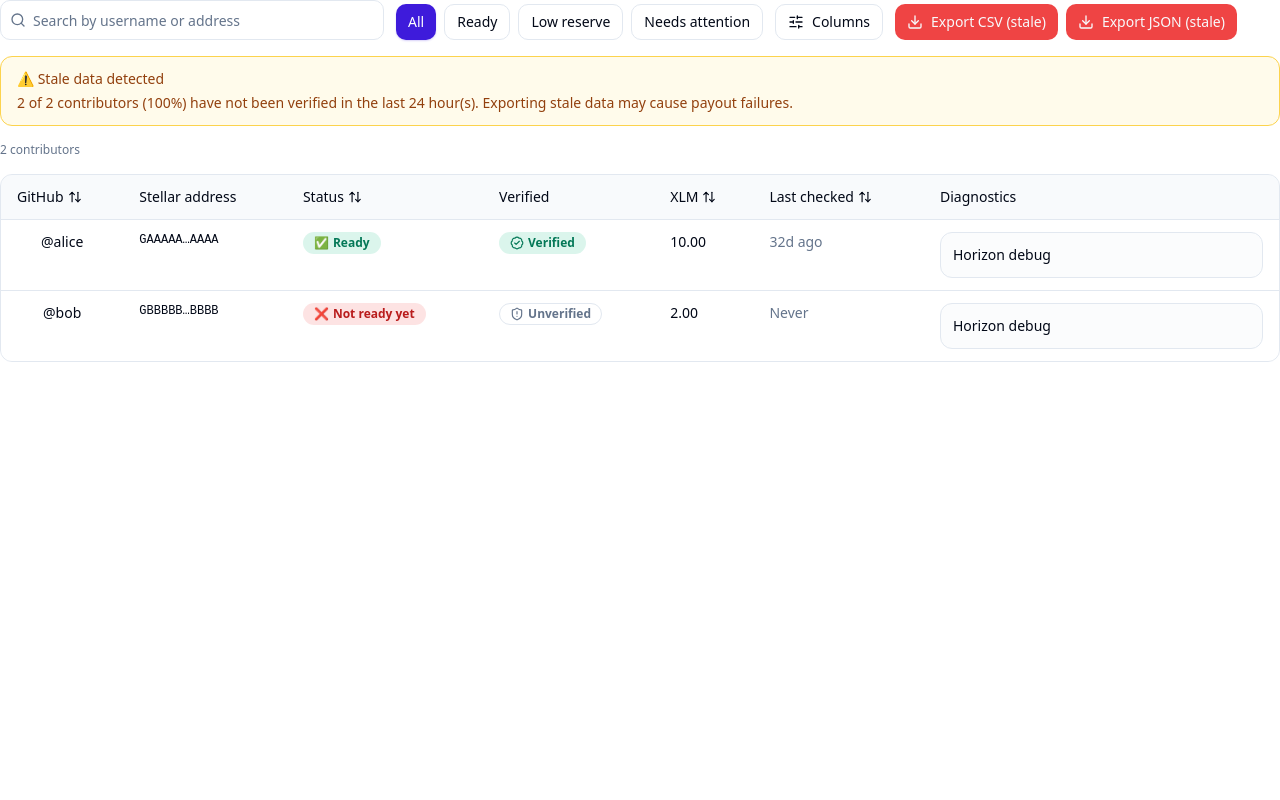
Test case: ContributorTable › export confirmation dialog › carries the stale-data warning into the dialog
The width and height of the screenshot is (1280, 800).
Click the button "Export CSV (stale)": [976, 22] box [895, 4, 1058, 40]
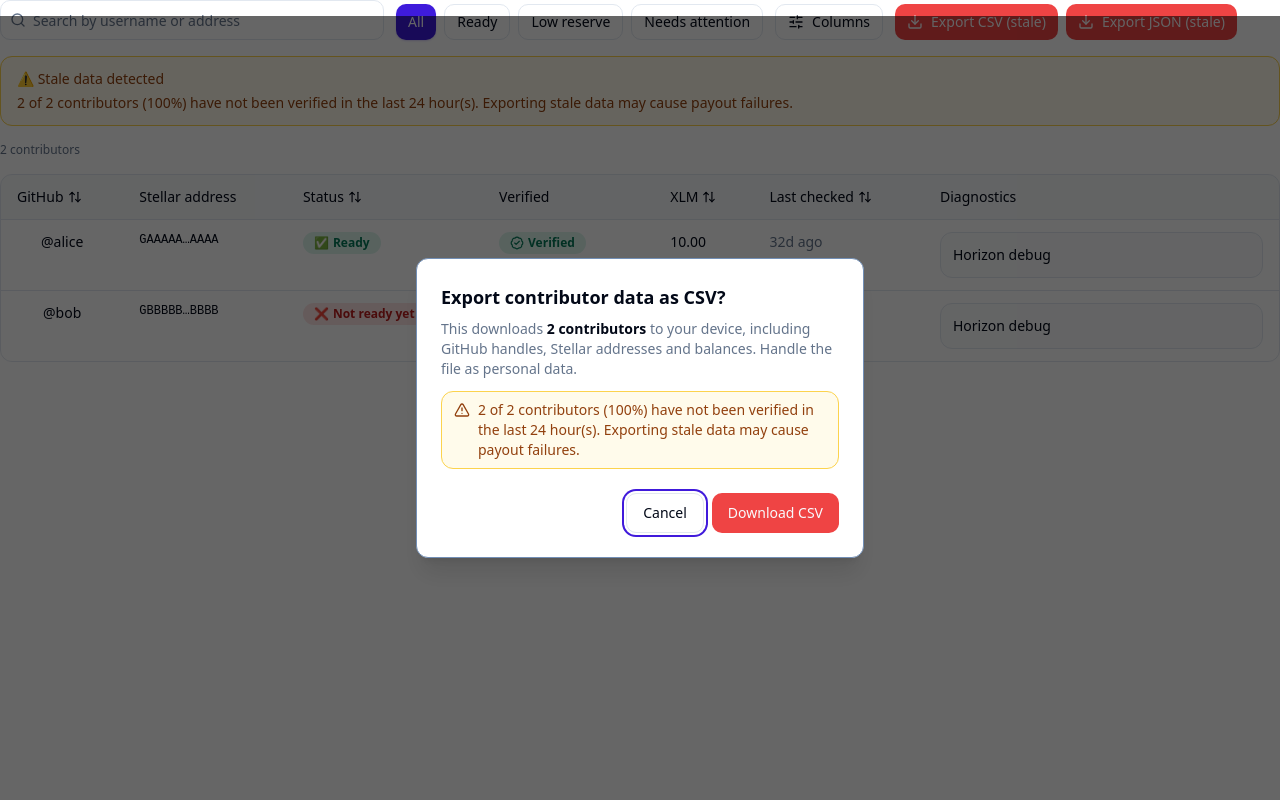
Now the dialog shows "have not been verified", box [478, 400, 814, 459]
Now the dialog shows "may cause payout failures", box [478, 400, 814, 459]
